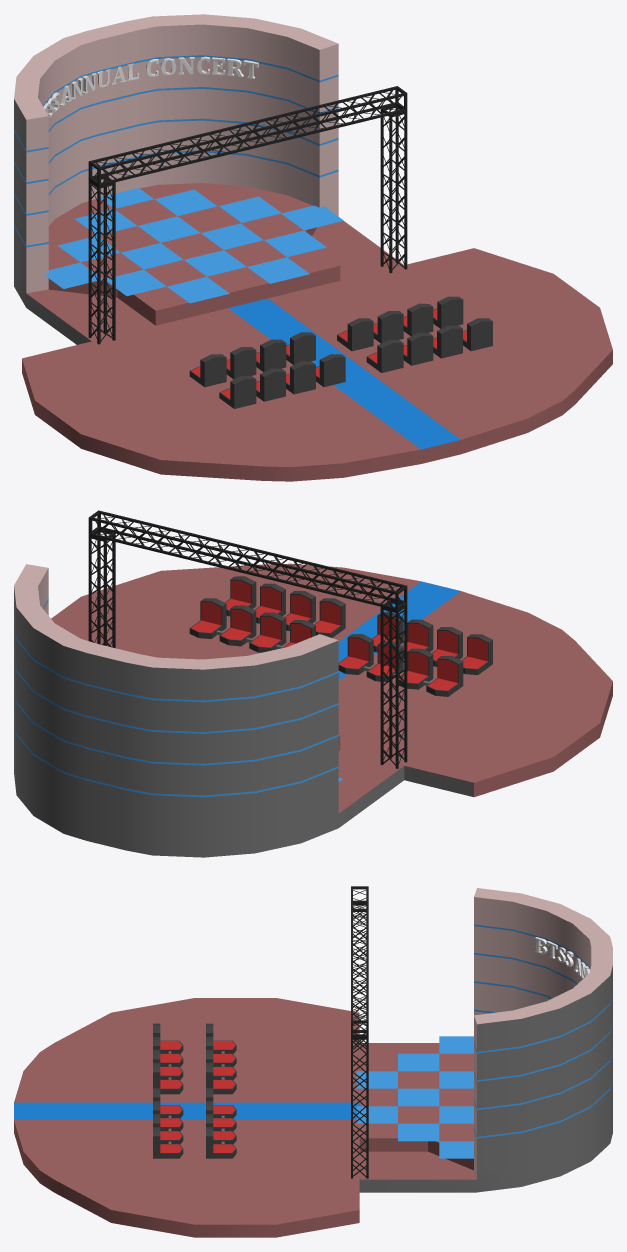
File: Stage 1.fbx
The picture shows the model from 3 angles, top to bottom: view 1: azimuth 30°, elevation 25°; view 2: azimuth 150°, elevation 25°; view 3: azimuth 270°, elevation 25°; orthographic projection. The views are drawn at different scales.
Parts seen in each view (by area): view 1: Stage; view 2: Stage; view 3: Stage.
Part boxes in pixels (x1,y1,x2,y2): Stage: (14,14,612,481); Stage: (14,510,612,857); Stage: (14,886,612,1237).
Size of the model in its own units: 1824 by 640 by 2038.
